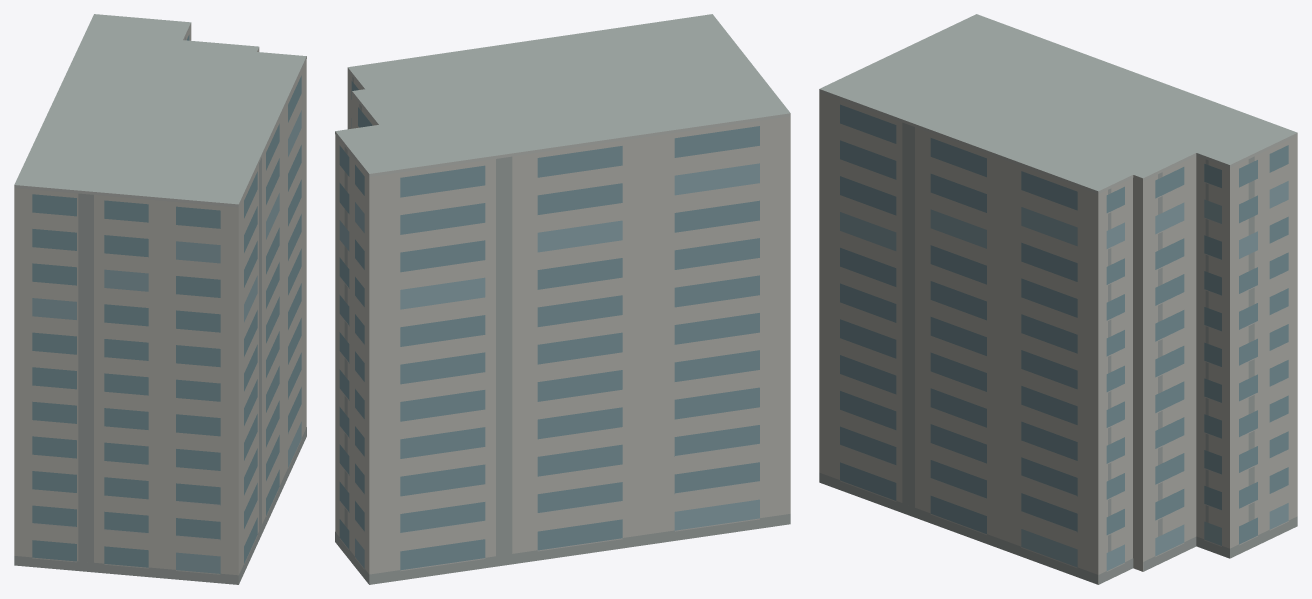
The model's file is survey-upis-32846847.glb.
3 views of the same model, side by side, from view 1: azimuth 30°, elevation 25°; view 2: azimuth 150°, elevation 25°; view 3: azimuth 270°, elevation 25° (orthographic). The views are drawn at different scales.
Visible parts, largest first — view 1: survey-upis-32846847.tmp; view 2: survey-upis-32846847.tmp; view 3: survey-upis-32846847.tmp.
Part boxes in pixels (<box>): survey-upis-32846847.tmp: <box>14,14,306,584</box>; survey-upis-32846847.tmp: <box>335,14,790,584</box>; survey-upis-32846847.tmp: <box>819,14,1297,584</box>.
Bounding box in the file's own units: 30.36 × 31.4 × 34.6.
